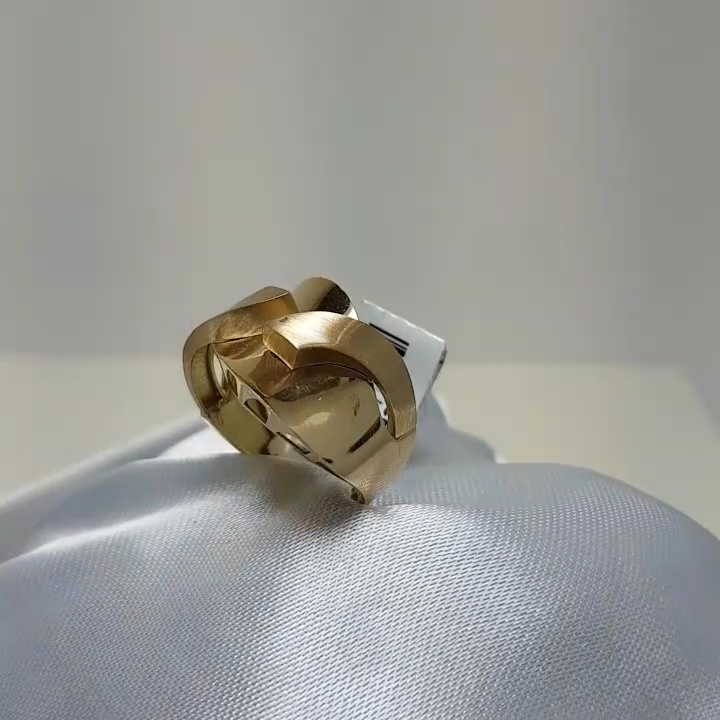Ring 4: (170, 271, 423, 522)
